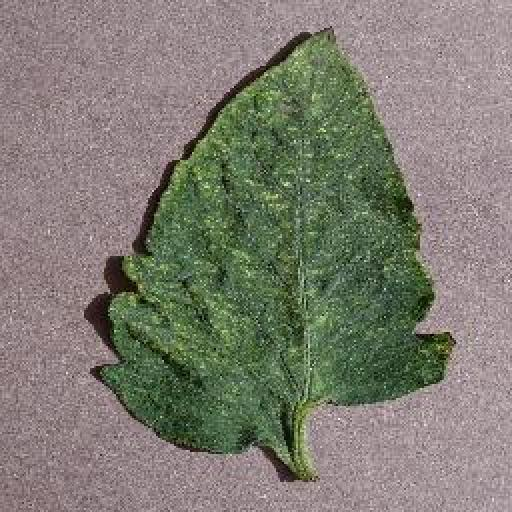Spider Mites: (97, 25, 455, 452)
